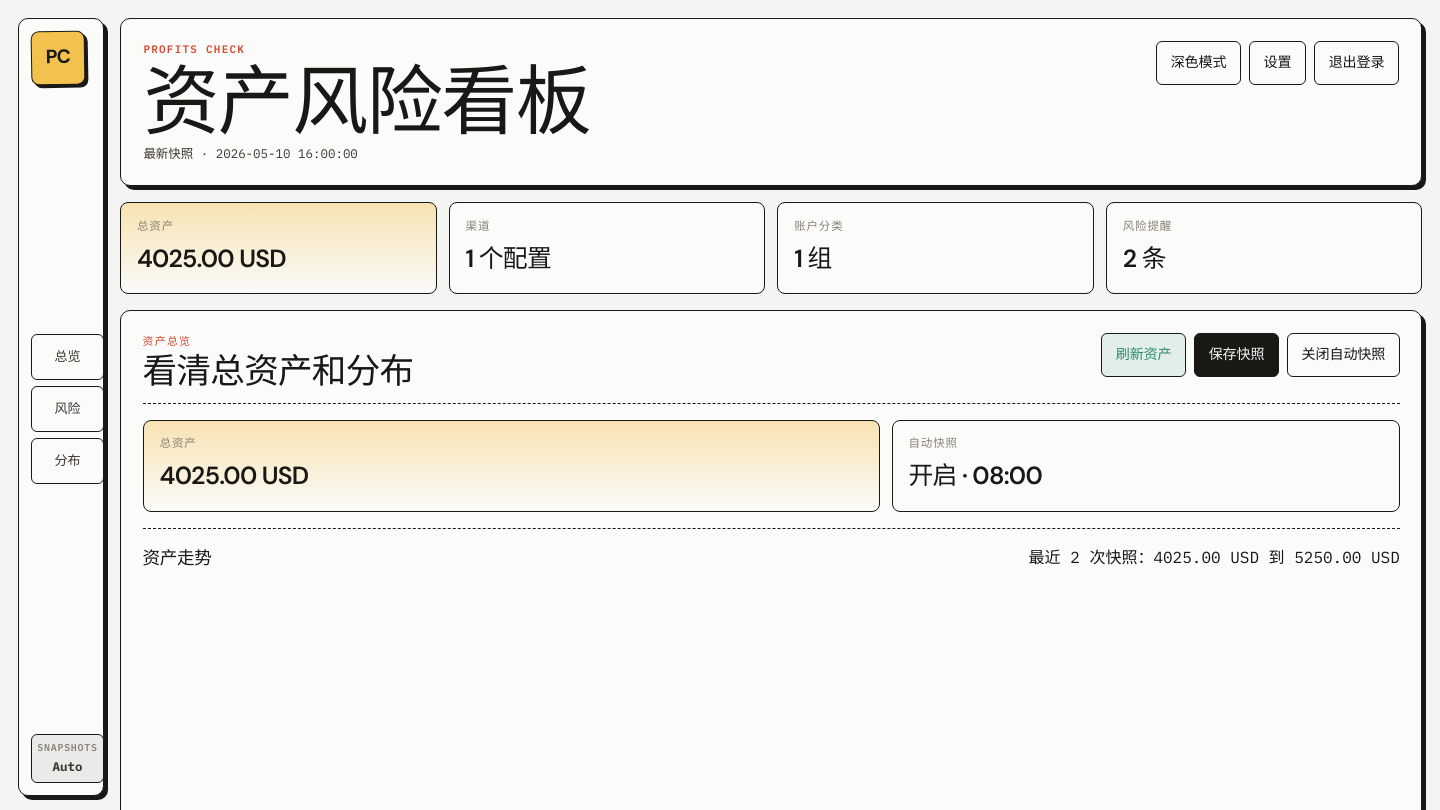
Test: defaults to light theme and toggles theme from the top bar
Click the button "深色模式" at (1199, 63), box top-left (1156, 41), bottom-right (1241, 85)
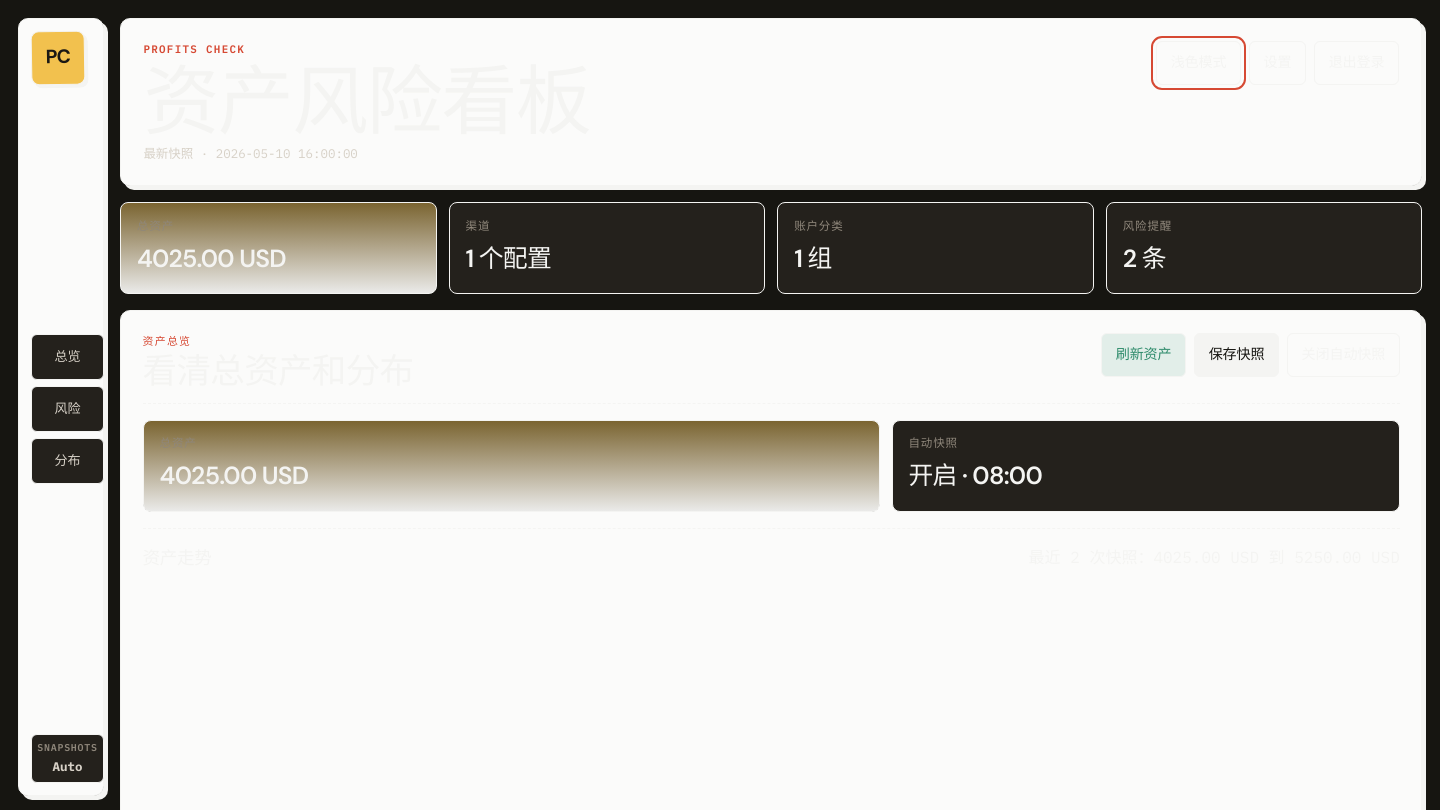
Expected: the button "浅色模式" is shown, top-left (1156, 41), bottom-right (1241, 85)
